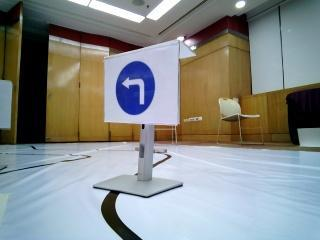left: (106, 56, 165, 117)
